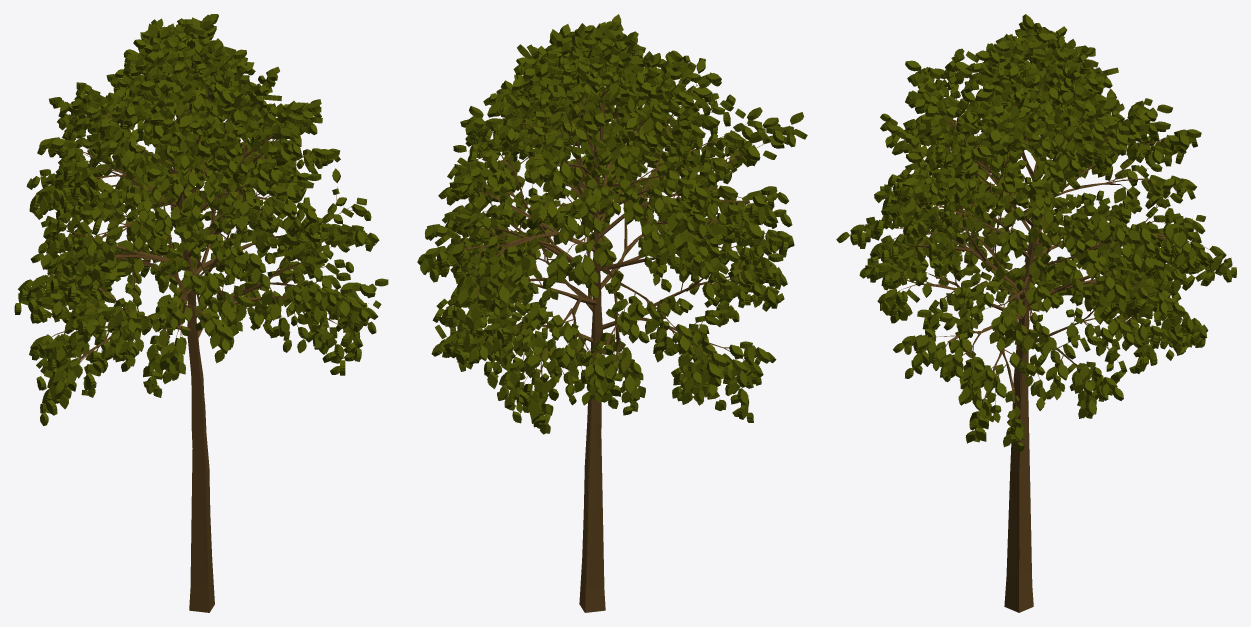
Rendered from tree1L.fbx.
3 renders of one model, left to right at view 1: azimuth 30°, elevation 25°; view 2: azimuth 150°, elevation 25°; view 3: azimuth 270°, elevation 25°, orthographic. The views are drawn at different scales.
Visible parts, largest first — view 1: tree1L1, tree1L2, tree1L3; view 2: tree1L1, tree1L2, tree1L3; view 3: tree1L1, tree1L2, tree1L3.
Boxes of the visible parts, x1=… form: tree1L1: x1=14, y1=14, x2=388, y2=612; tree1L2: x1=14, y1=15, x2=387, y2=580; tree1L3: x1=25, y1=19, x2=368, y2=589; tree1L1: x1=417, y1=14, x2=807, y2=612; tree1L2: x1=420, y1=16, x2=805, y2=586; tree1L3: x1=424, y1=25, x2=799, y2=594; tree1L1: x1=836, y1=14, x2=1236, y2=612; tree1L2: x1=840, y1=14, x2=1236, y2=577; tree1L3: x1=843, y1=25, x2=1230, y2=582.
Size of the model in its own units: 293 by 508 by 321.
